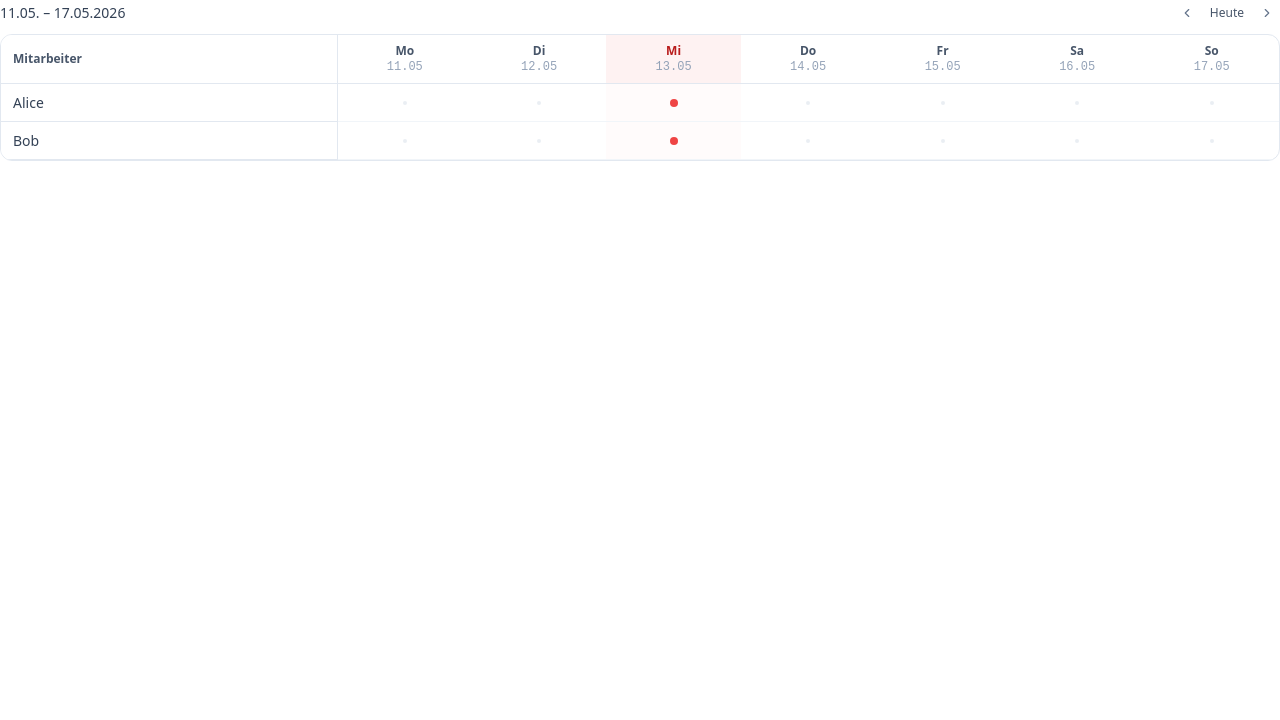
it: TeamView › opens DayDetailModal scoped to the clicked (employee, day)
Check: the text "Alice" is shown, box [13, 92, 44, 112]
What coordinates should you click on to do the following:
click the button with test id "team-cell-emp-a-2026-05-13"
I would click on:
 (674, 102)
Its box is [610, 88, 737, 117].
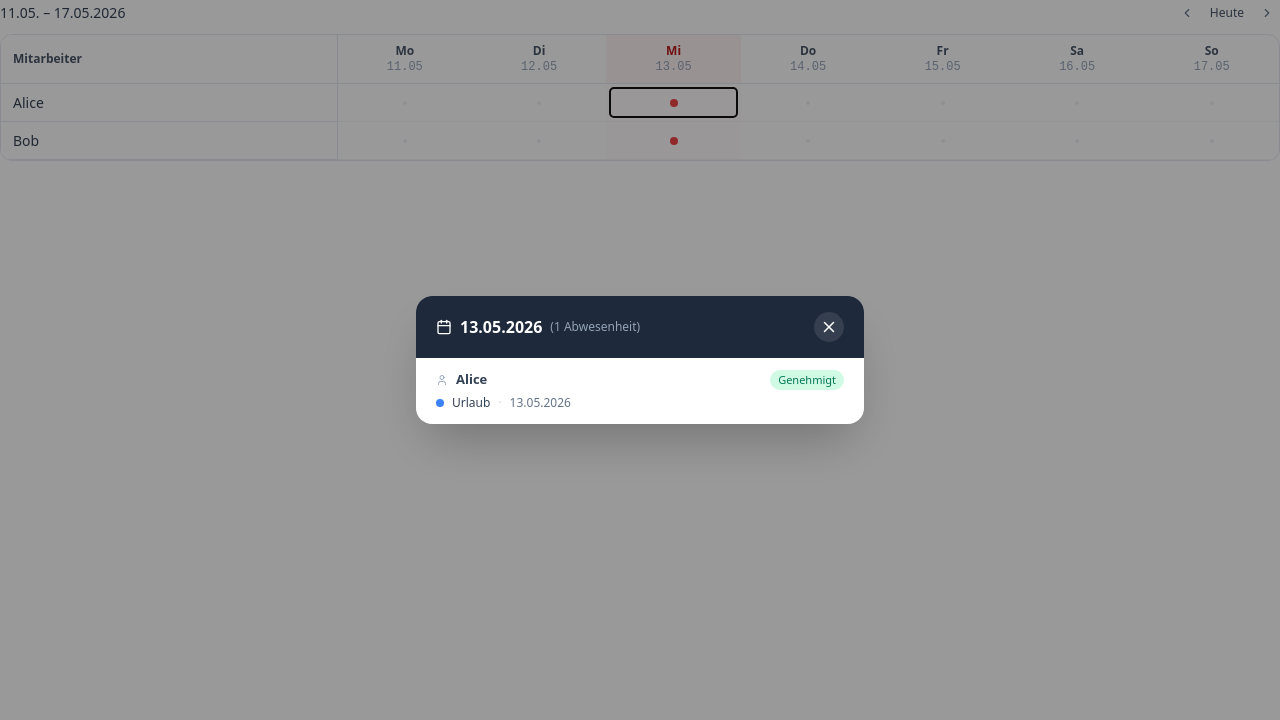
Check: the text "Alice" is shown, box [456, 370, 487, 389]
Check: the text "(1 Abwesenheit)" is shown, box [550, 318, 640, 336]
